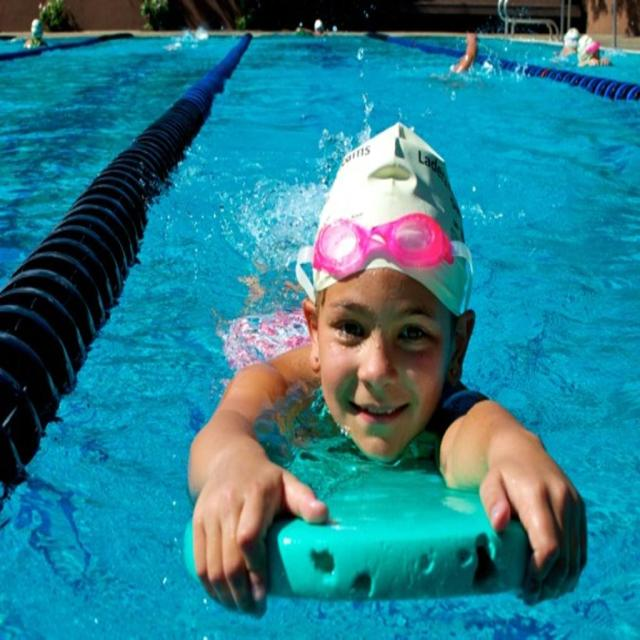Face: (321, 281, 459, 456)
